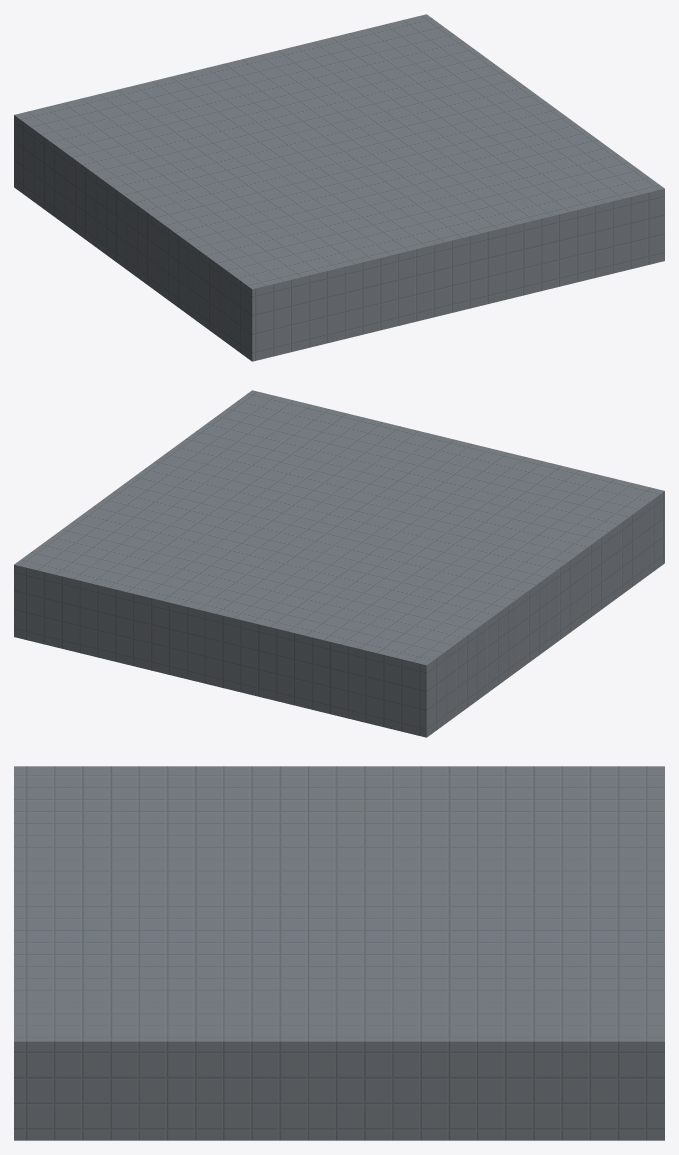
The model's file is Classroom_Box.fbx.
3 renders of one model, top to bottom at view 1: azimuth 30°, elevation 25°; view 2: azimuth 150°, elevation 25°; view 3: azimuth 270°, elevation 25°, orthographic. The views are drawn at different scales.
Parts seen in each view (by area): view 1: Classroom_Box; view 2: Classroom_Box; view 3: Classroom_Box.
Boxes of the visible parts, x1,y1,x2,y2 form: Classroom_Box: (14,14,664,361); Classroom_Box: (14,390,664,737); Classroom_Box: (14,766,664,1140).
Bounding box in the file's own units: 6158 × 1032 × 6158.
Materials: 3 (3 with a texture image).
